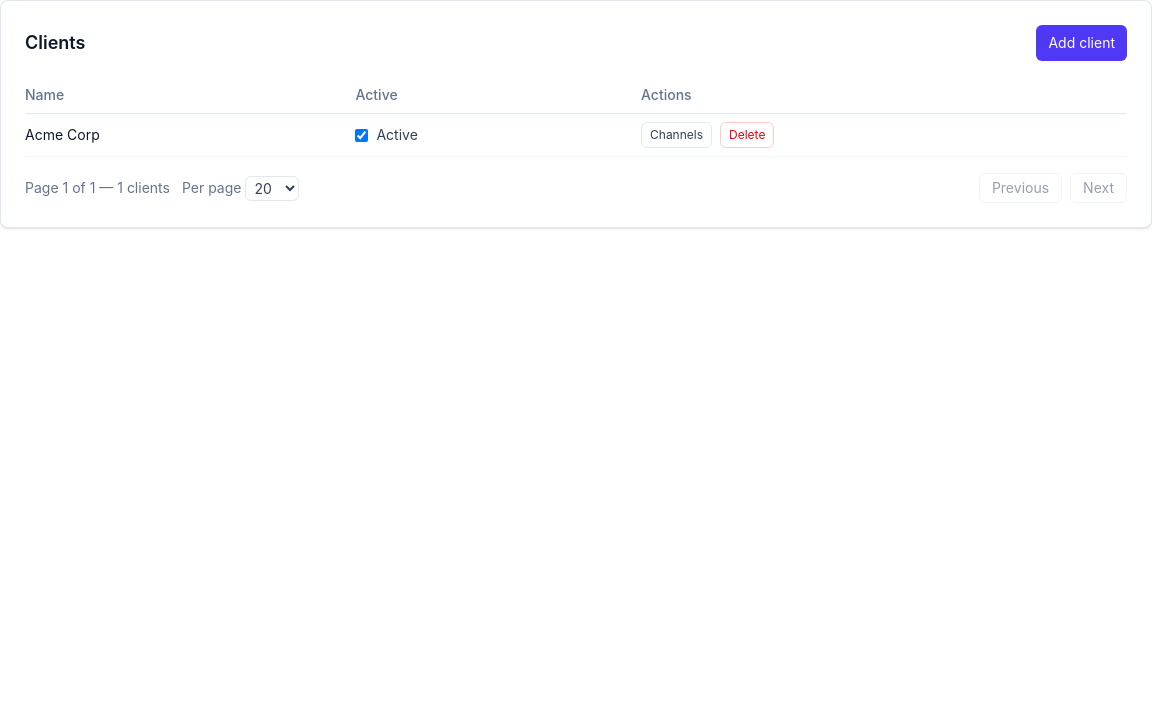
Test case: FE-CHN-LIST: the panel lists channels from the server, surviving reopen › fetches GET /clients/:id/channels on open and shows persisted rows after reopen
The width and height of the screenshot is (1152, 720).
Click the button "Channels" at (676, 135), box x1=641 y1=122 x2=712 y2=148
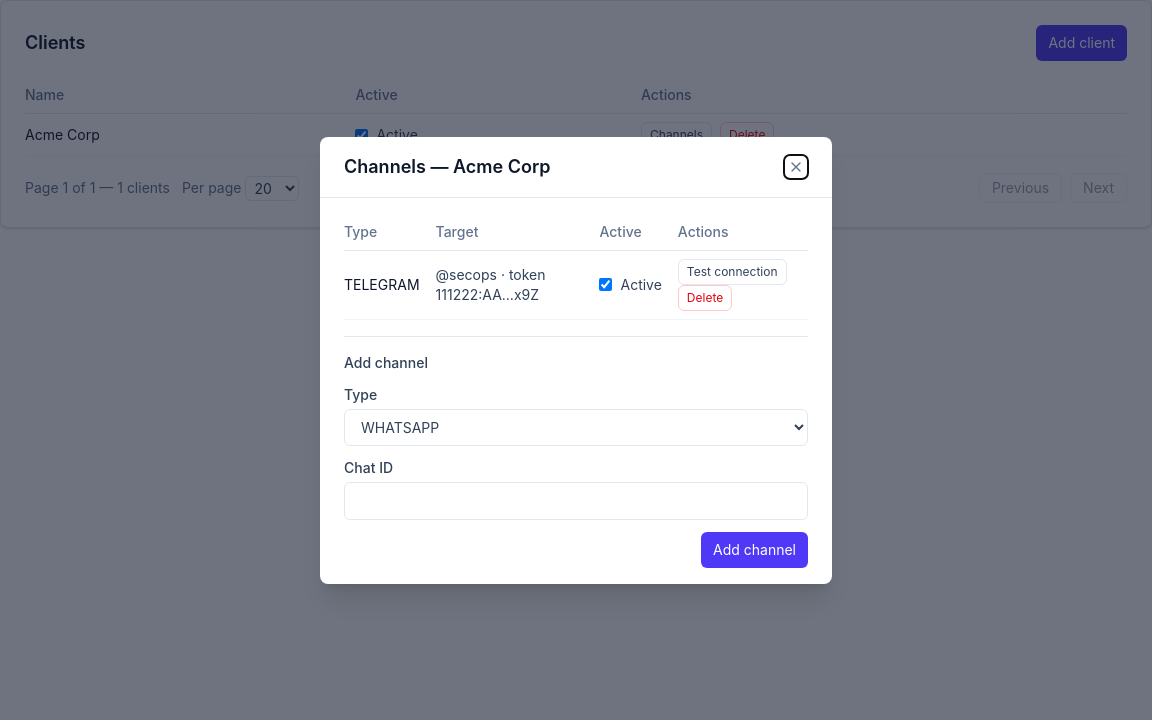
Check: the text "@secops · token 111222:AA…x9Z" is shown, box x1=436 y1=250 x2=599 y2=319
the popup is closed and reopened
Click the button named "Close" at (796, 166), box x1=784 y1=154 x2=808 y2=178
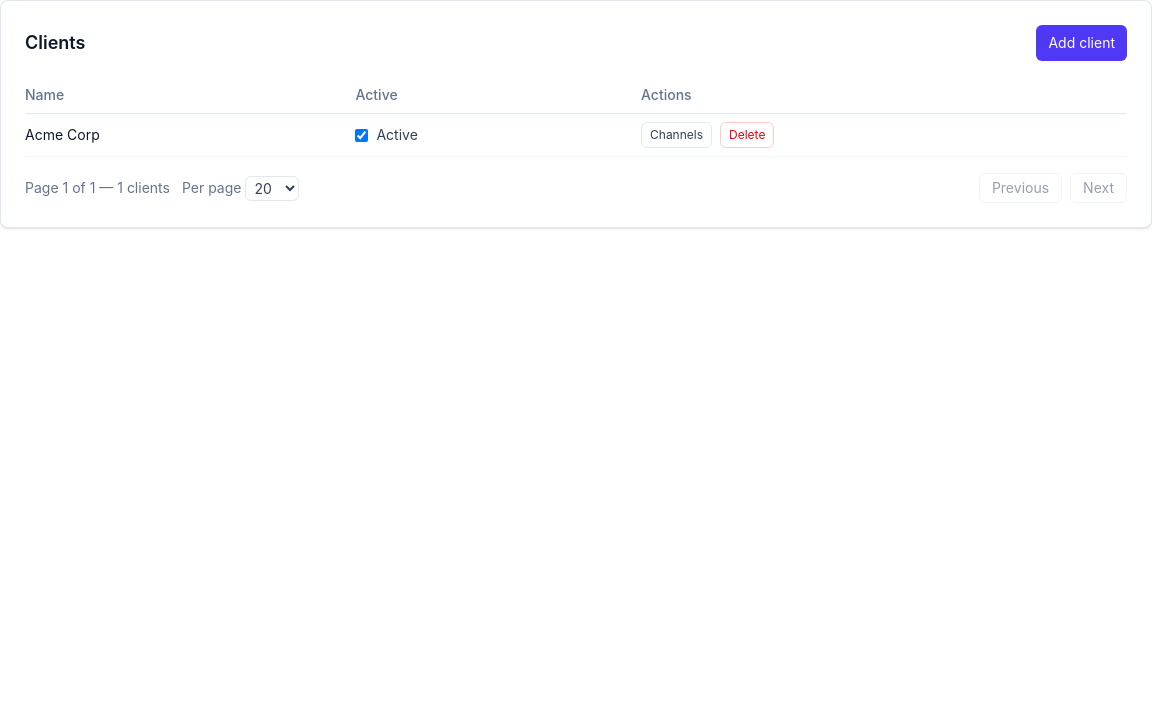
Check: the dialog is gone
Click the button "Channels" at (676, 135), box x1=641 y1=122 x2=712 y2=148
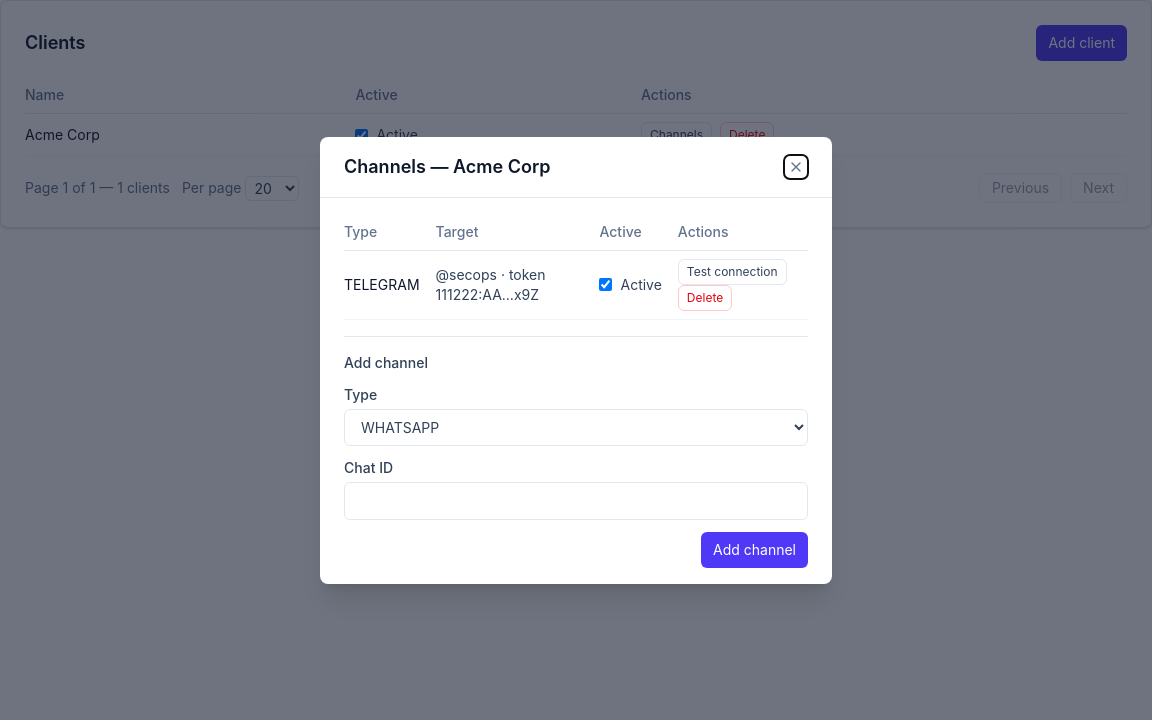
Check: the text "@secops · token 111222:AA…x9Z" is shown, box x1=436 y1=250 x2=599 y2=319
